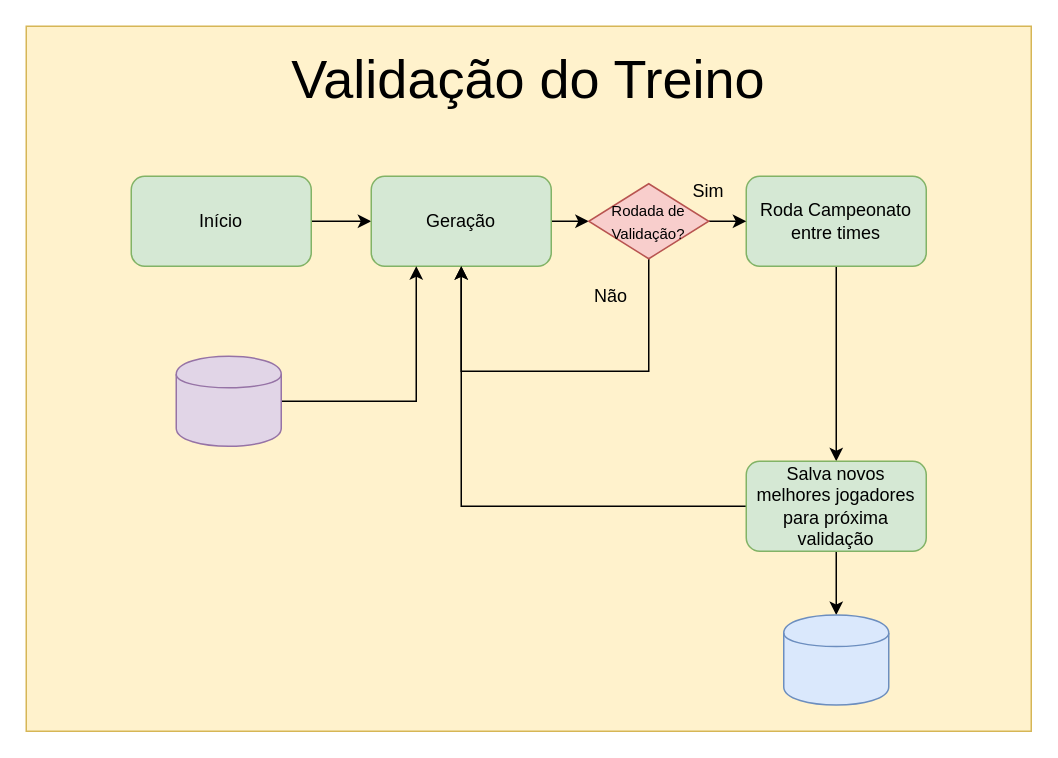
Image size: 1058x758. Some labels were removed from this diagram. The centre of each missing label's shape, as x and y in pixels:
"Jogadores da Geração" goes at (228,400).
"Jogadores de Validação" goes at (835,659).
